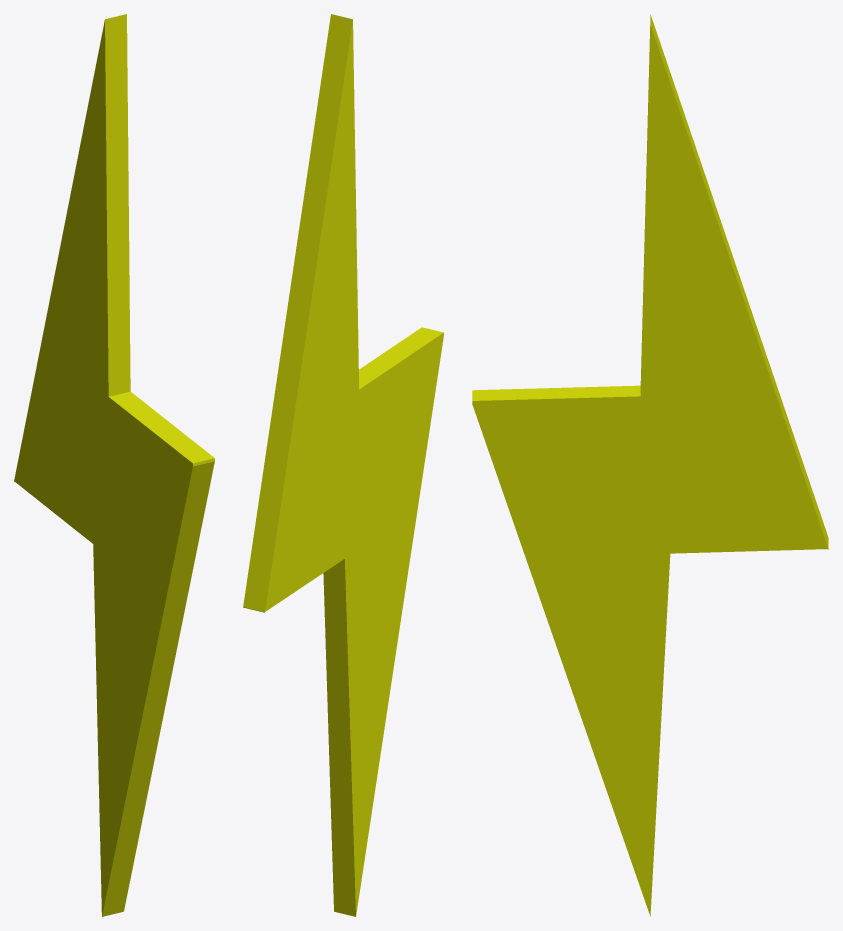
Rendered from velocidad.fbx.
The picture shows the model from 3 angles, left to right: view 1: azimuth 30°, elevation 25°; view 2: azimuth 150°, elevation 25°; view 3: azimuth 270°, elevation 25°; orthographic projection.
Visible parts, largest first — view 1: Cube; view 2: Cube; view 3: Cube.
Boxes of the visible parts, box(x1,y1,x2,y2) form: Cube: box(14, 14, 214, 916); Cube: box(243, 14, 443, 916); Cube: box(472, 14, 828, 916).
Size of the model in its own units: 16.16 by 553 by 200.
